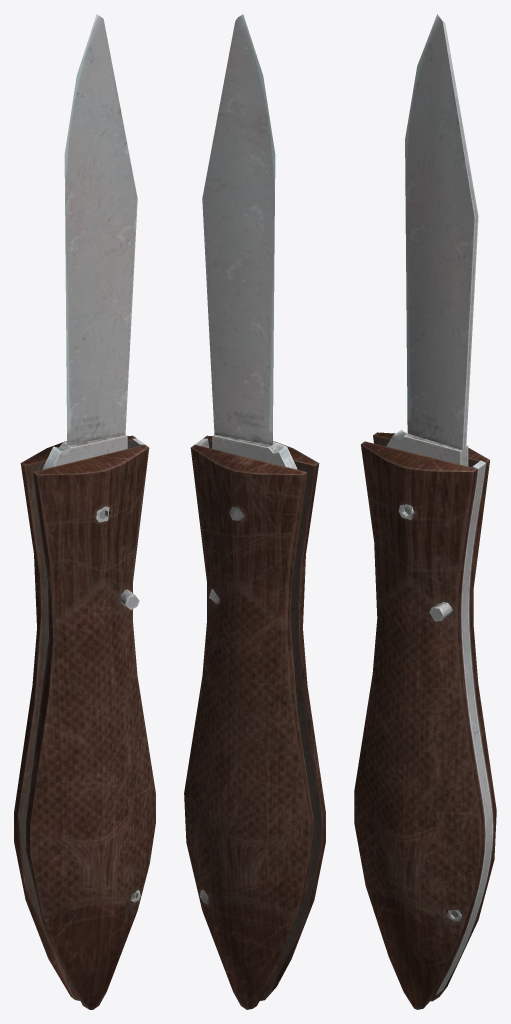
File: fish_knife.glb
The picture shows the model from 3 angles, left to right: view 1: azimuth 30°, elevation 25°; view 2: azimuth 150°, elevation 25°; view 3: azimuth 330°, elevation 25°; orthographic projection.
Parts seen in each view (by area): view 1: fish_knife_handle; view 2: fish_knife_handle; view 3: fish_knife_handle.
Boxes of the visible parts, x1,y1,x2,y2 form: fish_knife_handle: (14,14,155,1009); fish_knife_handle: (184,14,325,1009); fish_knife_handle: (354,14,496,1009).
Bounding box in the file's own units: 0.0289 × 0.2157 × 0.0161.
1 material, 1 textured.
